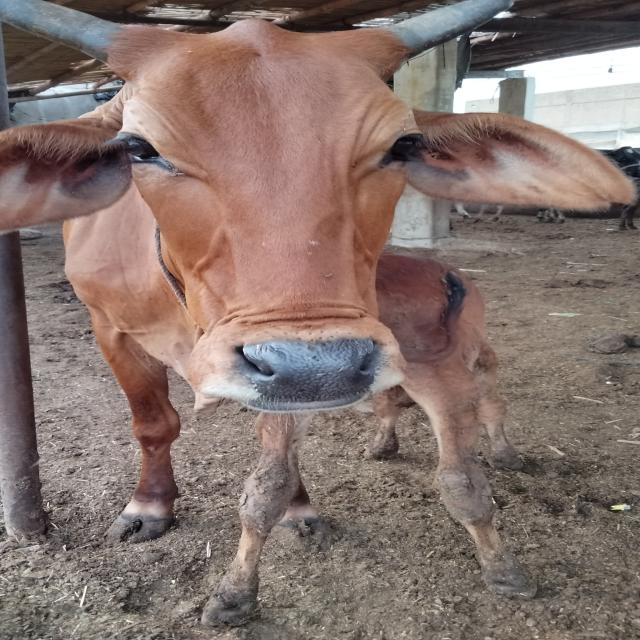muzzles: (227, 336, 394, 405)
